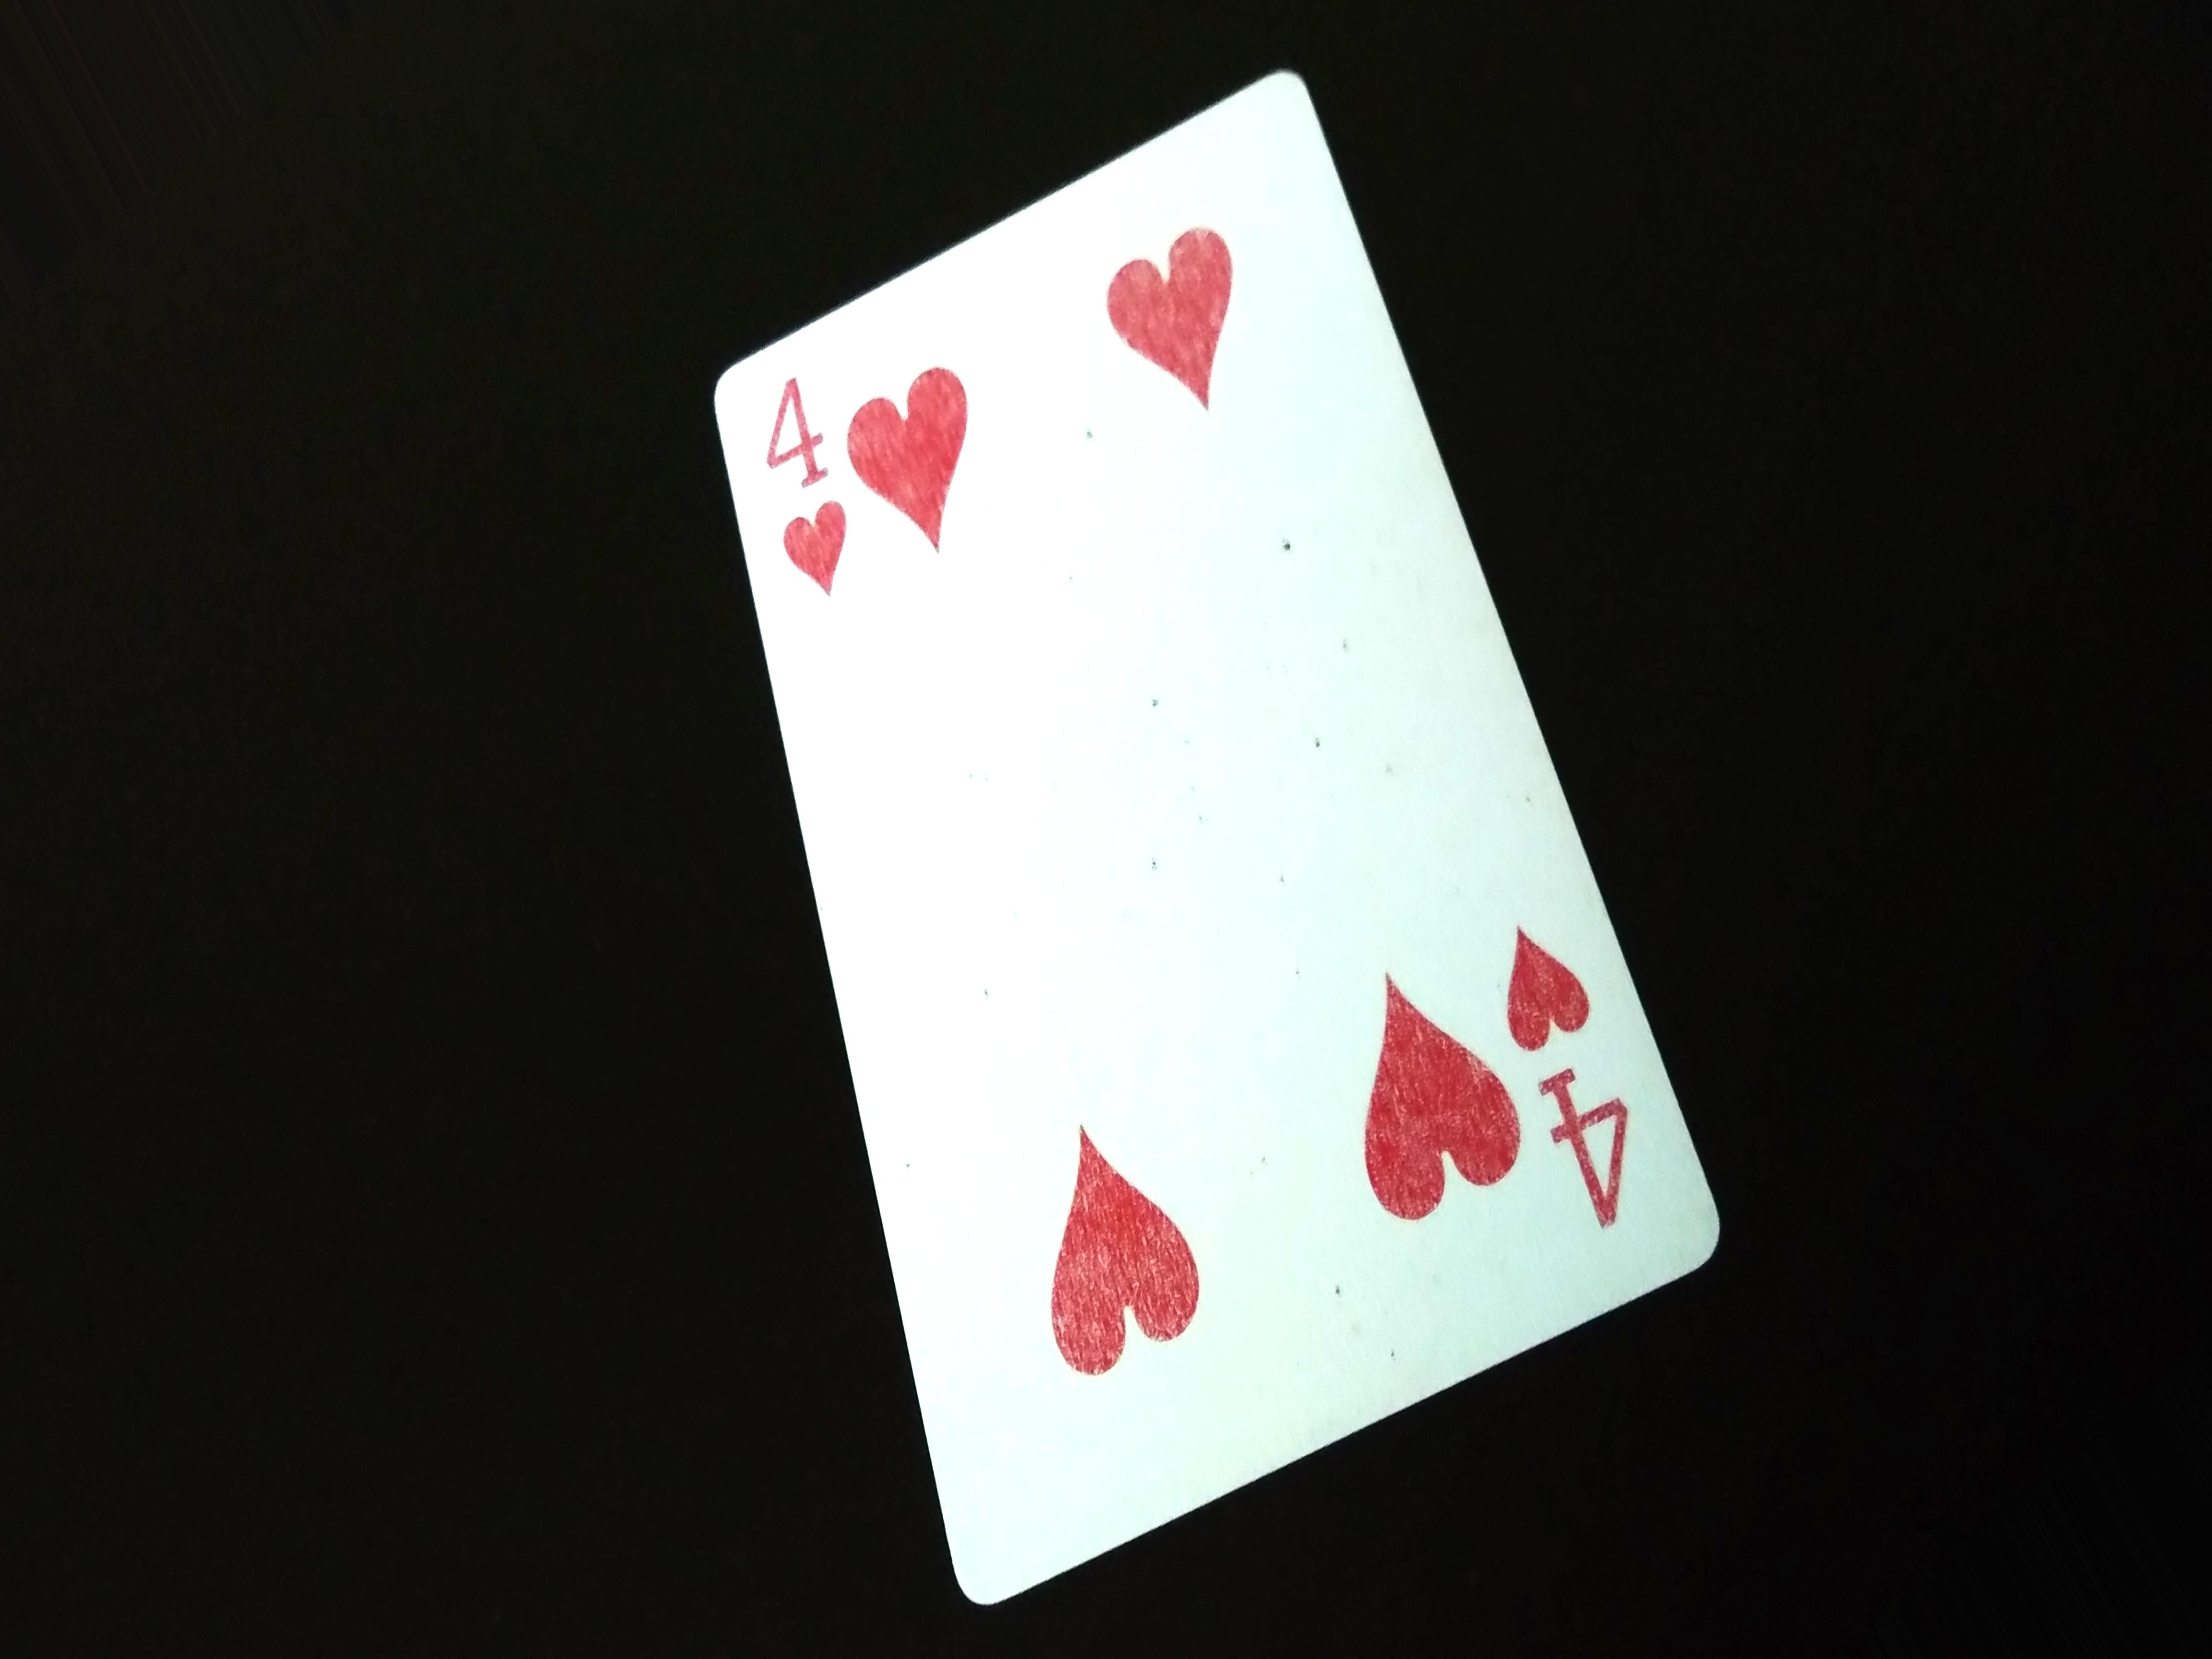4H: (759, 375, 855, 615)
